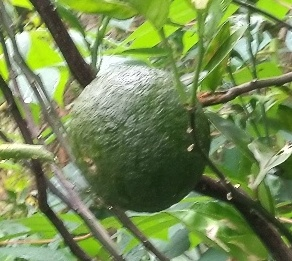Cam: (56, 60, 214, 215)
